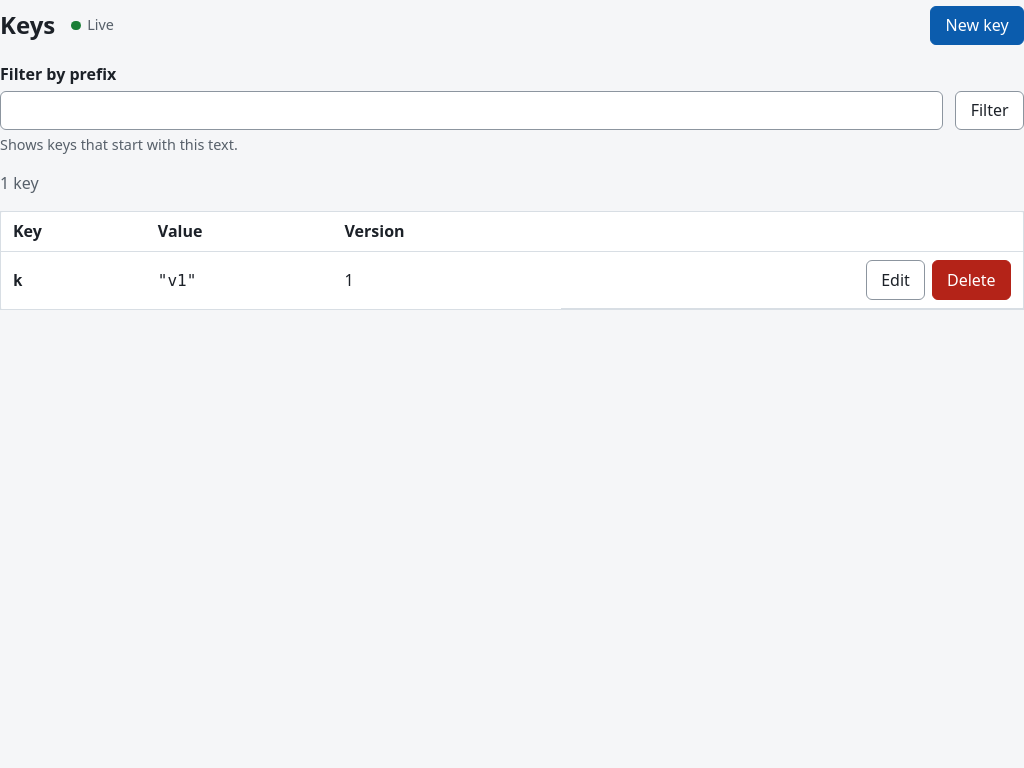
Test: KeysView › live updates › tells the editor when the key changes underneath it
This screenshot has width=1024, height=768.
Expected: the message with test id "feed-status" reads "Live", [87,15,114,34]
Step 1. Click the button with aria-label "Edit k" → (896, 280), box [866,260,925,300]
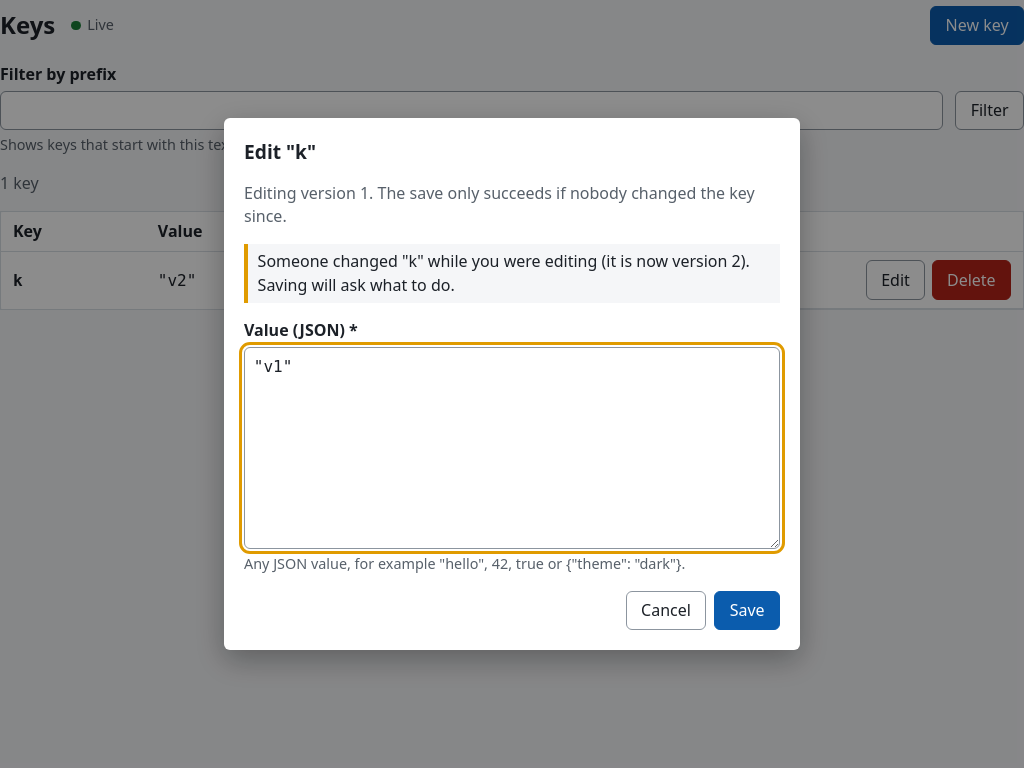
Expected: the message with class "live-notice" shows "now version 2", [258,250,750,296]
